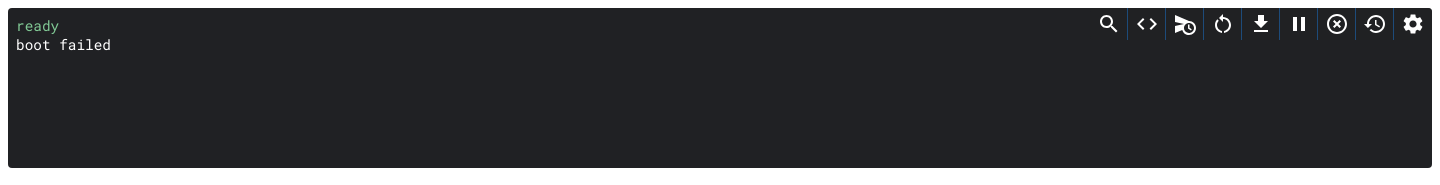
Test case: TerminalOutput › 搜索能定位到匹配行并给出计数
Click the button named "搜索输出": [1109, 24] box [1090,8,1128,40]
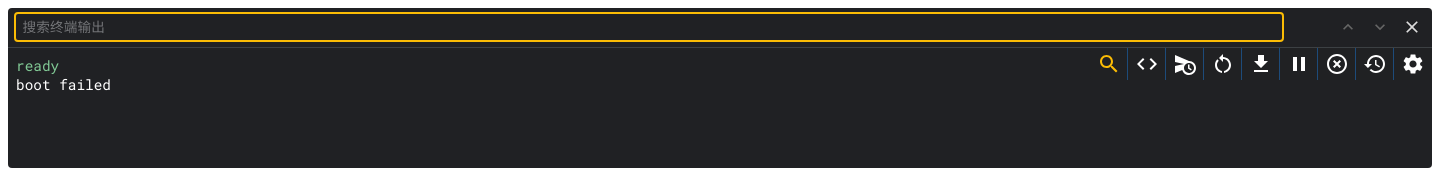
In the field with placeholder "搜索终端输出": [649, 27] box [14,13,1284,42], type "fail"
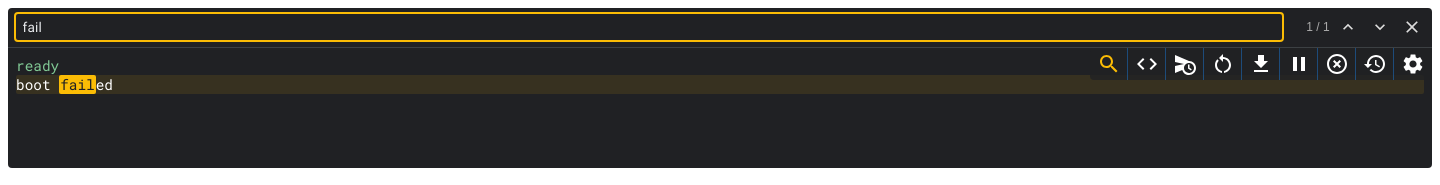
Expected: the element showing "boot failed" is shown, [16,75,1424,94]
Result: the text with class "searchCount" reads "1 / 1" at [1306,20,1330,34]
